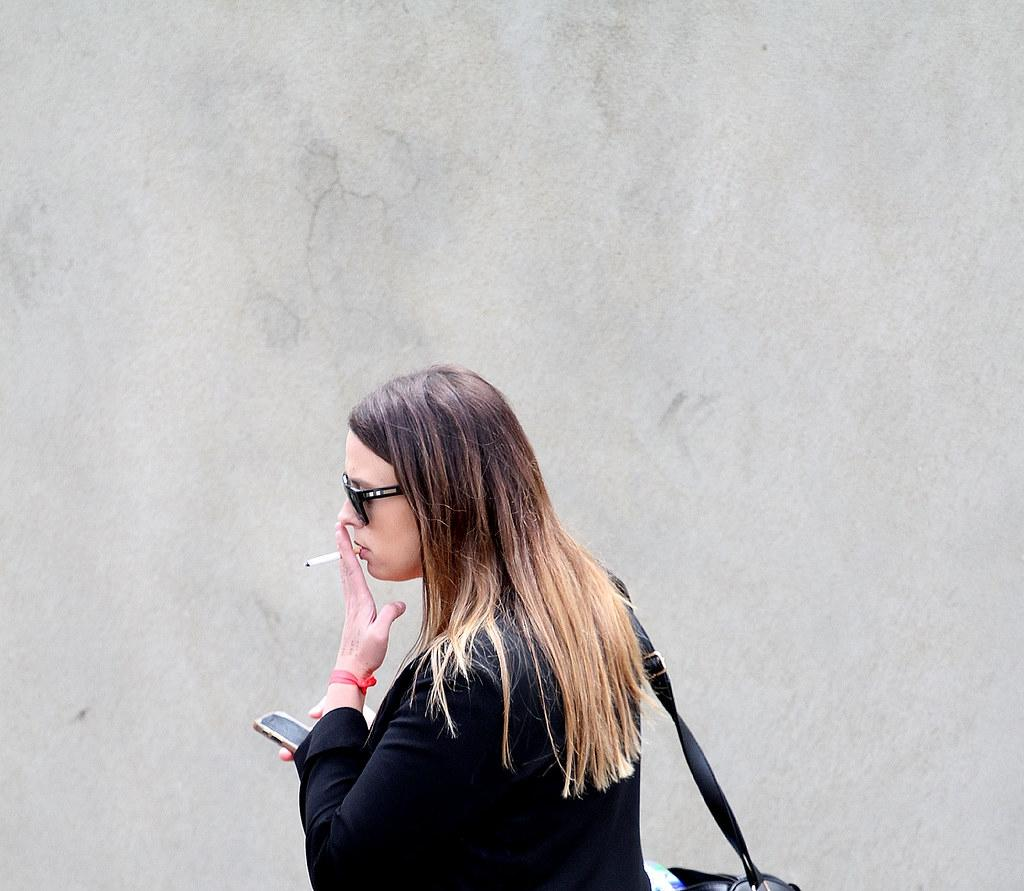cigarette: (302, 546, 362, 570)
